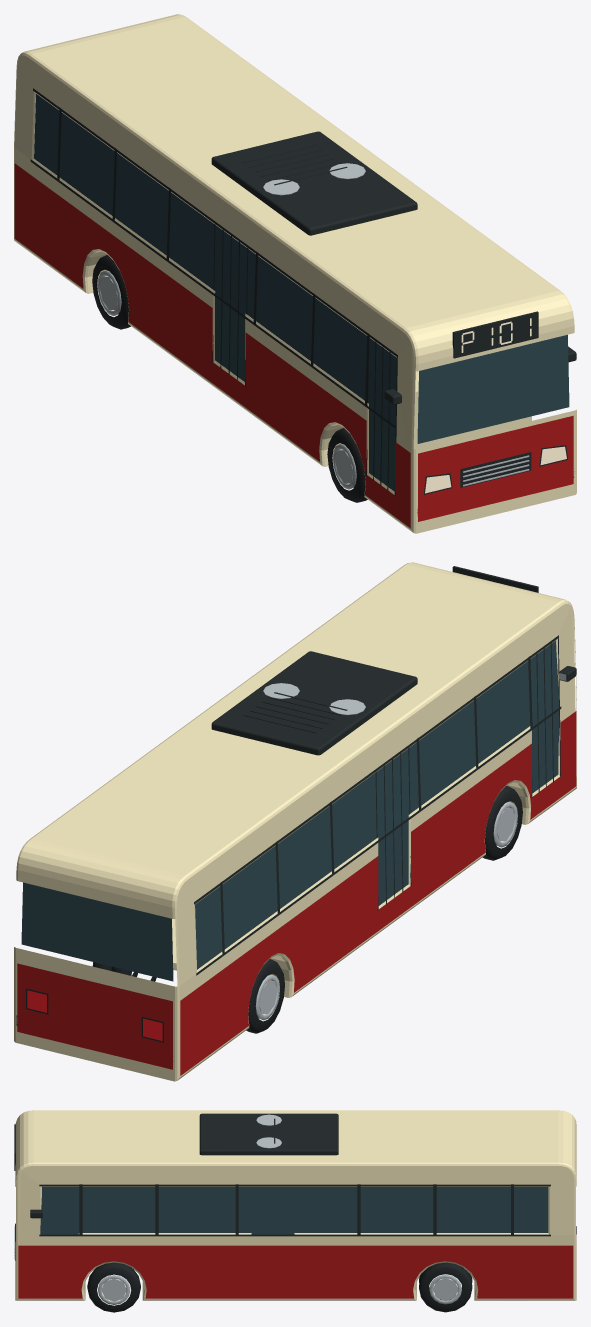
Rendered from veh.bus.gltf.
3 views of the same model, one above another, from view 1: azimuth 30°, elevation 25°; view 2: azimuth 150°, elevation 25°; view 3: azimuth 270°, elevation 25° (orthographic). The views are drawn at different scales.
Visible parts, largest first — view 1: veh.bus/vehicle:car_paint:fef3c7, veh.bus/vehicle:glass_vehicle:334f58, veh.bus/vehicle:car_paint:b91c1c, veh.bus/vehicle:plastic_trim_black:242b2c, veh.bus/vehicle:chrome:bfc8cc, veh.bus/vehicle:rubber_tire:202527, veh.bus/vehicle:lamp_lens:fff3d8; view 2: veh.bus/vehicle:car_paint:fef3c7, veh.bus/vehicle:glass_vehicle:334f58, veh.bus/vehicle:car_paint:b91c1c, veh.bus/vehicle:plastic_trim_black:242b2c, veh.bus/vehicle:rubber_tire:202527, veh.bus/vehicle:chrome:bfc8cc, veh.bus/vehicle:tail_light_red:de252b; view 3: veh.bus/vehicle:car_paint:fef3c7, veh.bus/vehicle:car_paint:b91c1c, veh.bus/vehicle:glass_vehicle:334f58, veh.bus/vehicle:plastic_trim_black:242b2c, veh.bus/vehicle:rubber_tire:202527, veh.bus/vehicle:chrome:bfc8cc.
Part boxes in pixels (box(x1,y1,x2,y2)): veh.bus/vehicle:car_paint:fef3c7: box(14, 14, 576, 533); veh.bus/vehicle:glass_vehicle:334f58: box(34, 94, 569, 491); veh.bus/vehicle:car_paint:b91c1c: box(14, 163, 573, 527); veh.bus/vehicle:plastic_trim_black:242b2c: box(30, 88, 576, 515); veh.bus/vehicle:chrome:bfc8cc: box(97, 163, 529, 489); veh.bus/vehicle:rubber_tire:202527: box(92, 255, 367, 502); veh.bus/vehicle:lamp_lens:fff3d8: box(425, 318, 566, 493); veh.bus/vehicle:car_paint:fef3c7: box(14, 562, 576, 1081); veh.bus/vehicle:glass_vehicle:334f58: box(21, 641, 559, 981); veh.bus/vehicle:car_paint:b91c1c: box(17, 711, 576, 1075); veh.bus/vehicle:plastic_trim_black:242b2c: box(16, 566, 576, 1042); veh.bus/vehicle:rubber_tire:202527: box(92, 786, 522, 1033); veh.bus/vehicle:chrome:bfc8cc: box(255, 673, 566, 1020); veh.bus/vehicle:tail_light_red:de252b: box(27, 990, 162, 1040); veh.bus/vehicle:car_paint:fef3c7: box(15, 1110, 576, 1300); veh.bus/vehicle:car_paint:b91c1c: box(18, 1245, 573, 1298); veh.bus/vehicle:glass_vehicle:334f58: box(40, 1187, 548, 1234); veh.bus/vehicle:plastic_trim_black:242b2c: box(14, 1113, 576, 1260); veh.bus/vehicle:rubber_tire:202527: box(87, 1262, 472, 1312); veh.bus/vehicle:chrome:bfc8cc: box(14, 1114, 461, 1304).
Size of the model in its own units: 2.79 by 3.21 by 10.53.
